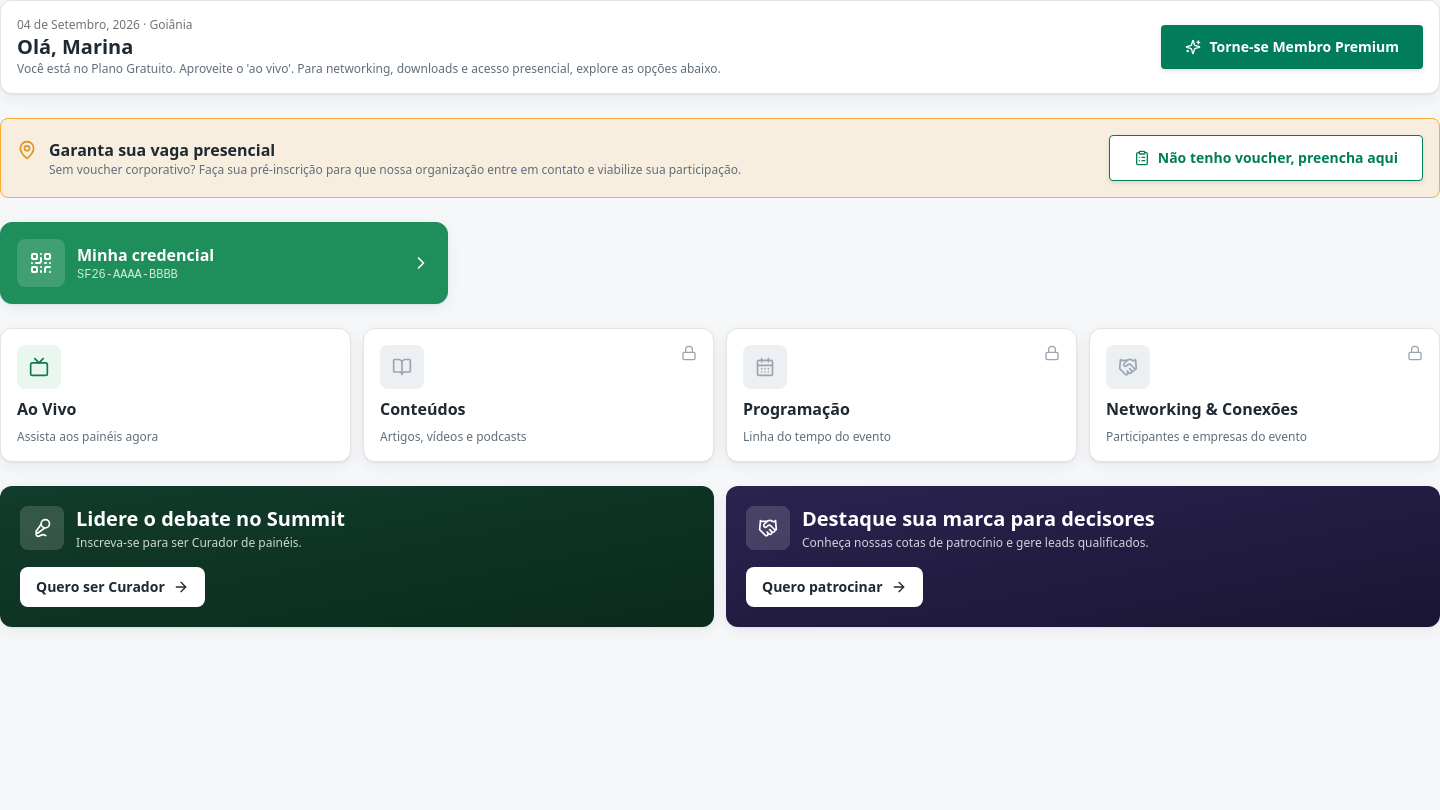
Test case: HomePage › clicar num atalho bloqueado abre o paywall nomeando o recurso
Click the button with aria-label "Networking & Conexões — exclusivo". click: click(1264, 395)
box: [1089,328,1439,462]
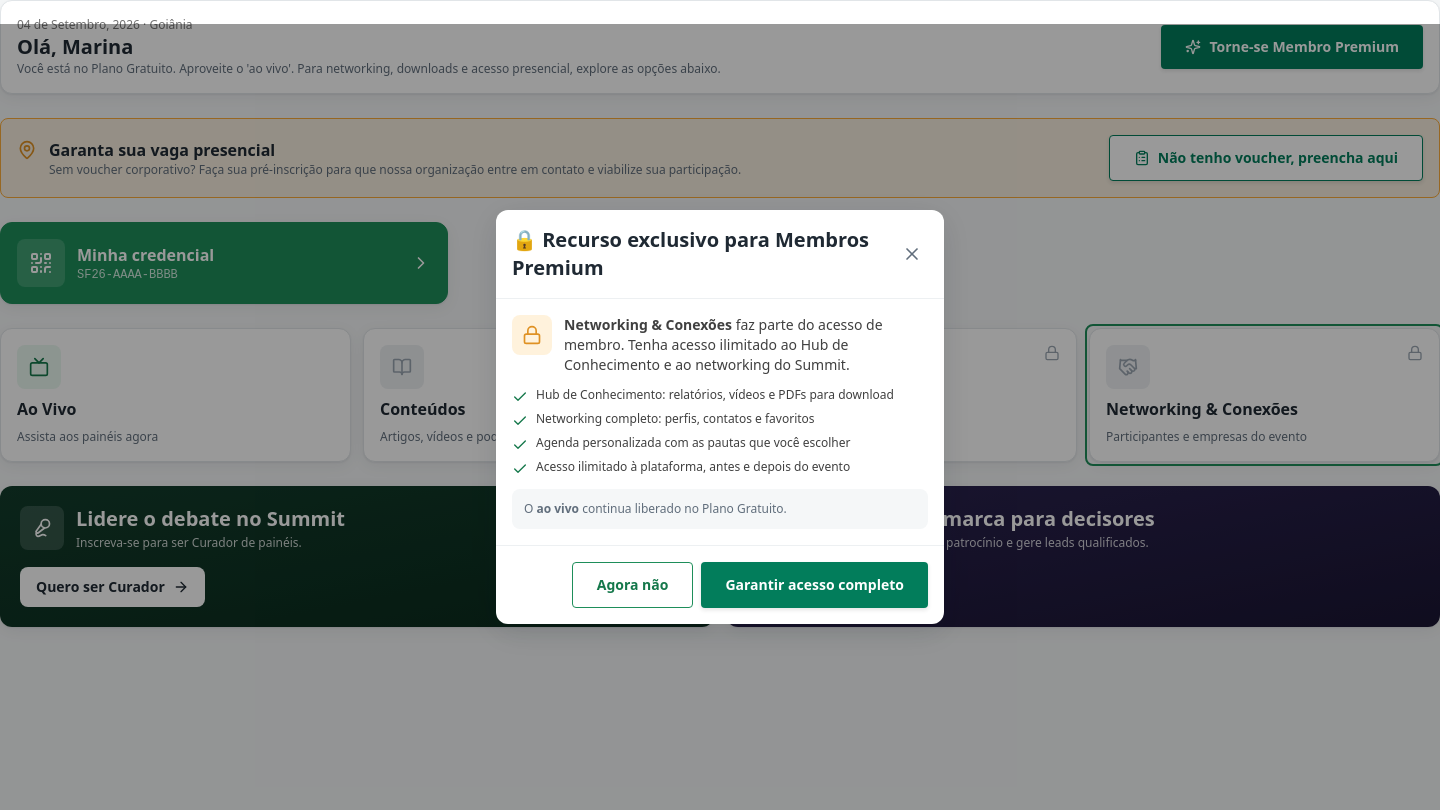
Now the text "Networking & Conexões" is shown, box [564,315,732,334]
